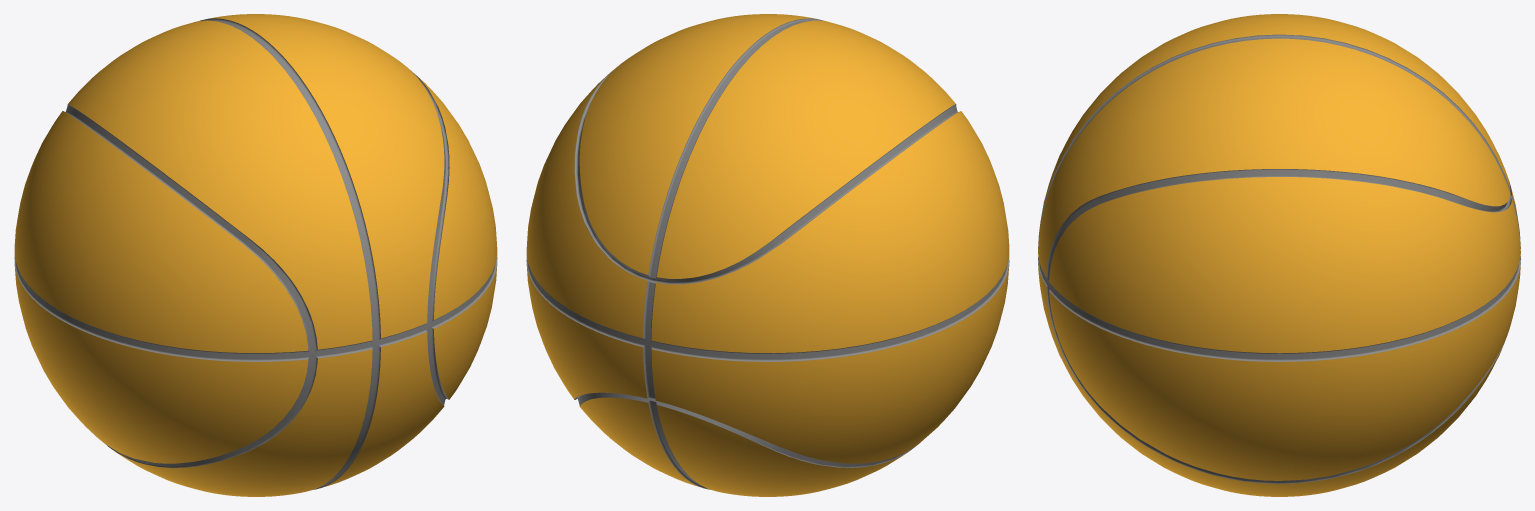
Rendered from basketball_mat_only.dae.
3 views of the same model, side by side, from view 1: azimuth 30°, elevation 25°; view 2: azimuth 150°, elevation 25°; view 3: azimuth 270°, elevation 25° (orthographic).
Parts seen in each view (by area): view 1: mesh_1_bask, mesh_2_Cut-Revolve1; view 2: mesh_1_bask, mesh_2_Cut-Revolve1; view 3: mesh_1_bask, mesh_2_Cut-Revolve1.
Part boxes in pixels (x1=…): mesh_1_bask: x1=14, y1=14, x2=497, y2=496; mesh_2_Cut-Revolve1: x1=14, y1=18, x2=497, y2=489; mesh_1_bask: x1=526, y1=14, x2=1009, y2=496; mesh_2_Cut-Revolve1: x1=526, y1=18, x2=1009, y2=489; mesh_1_bask: x1=1038, y1=14, x2=1520, y2=496; mesh_2_Cut-Revolve1: x1=1038, y1=34, x2=1520, y2=483.
Bounding box in the file's own units: 0.2499 × 0.2499 × 0.2499.
